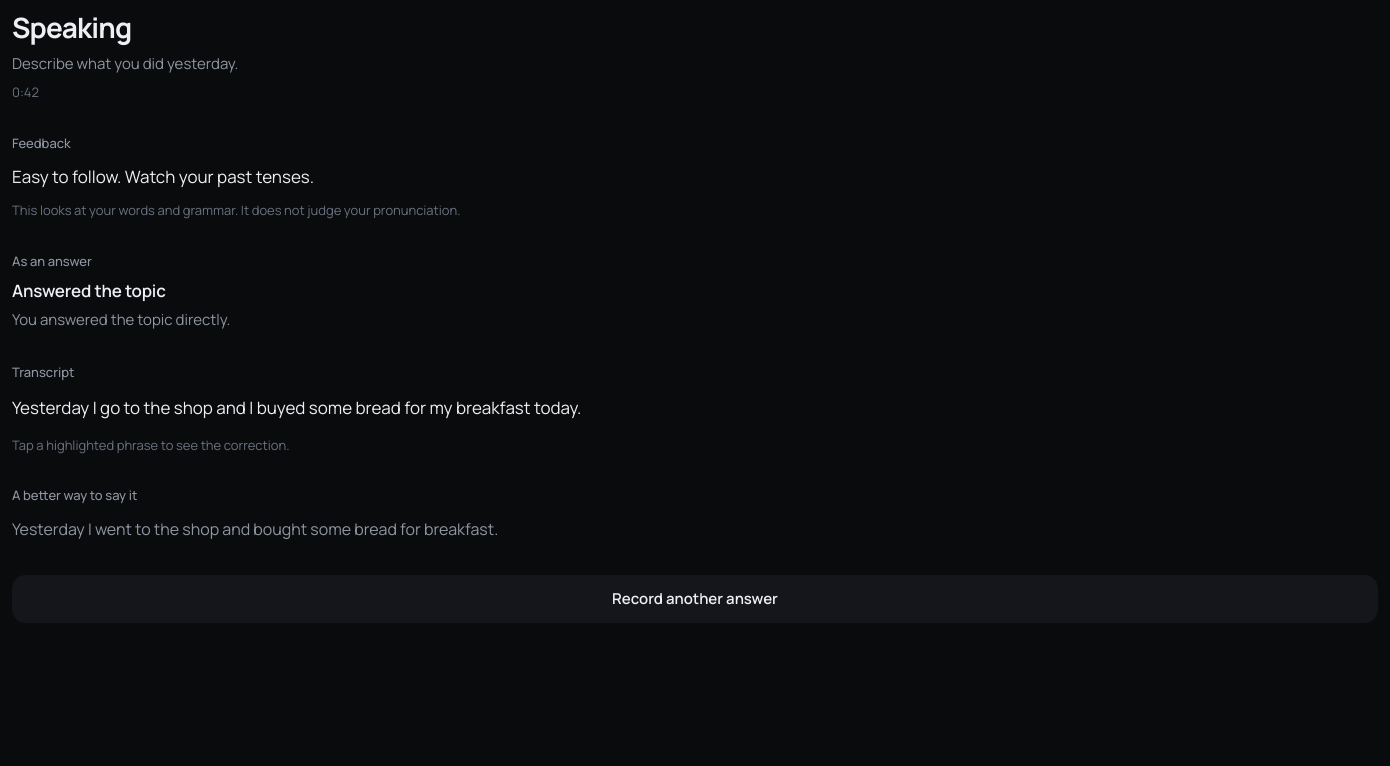
Test: tapping a marked phrase › shows that phrase's correction straight away
This screenshot has width=1390, height=766.
Step 1. Click the button "buyed" → click(281, 407), box [257,396,305,419]
(page scrolled)
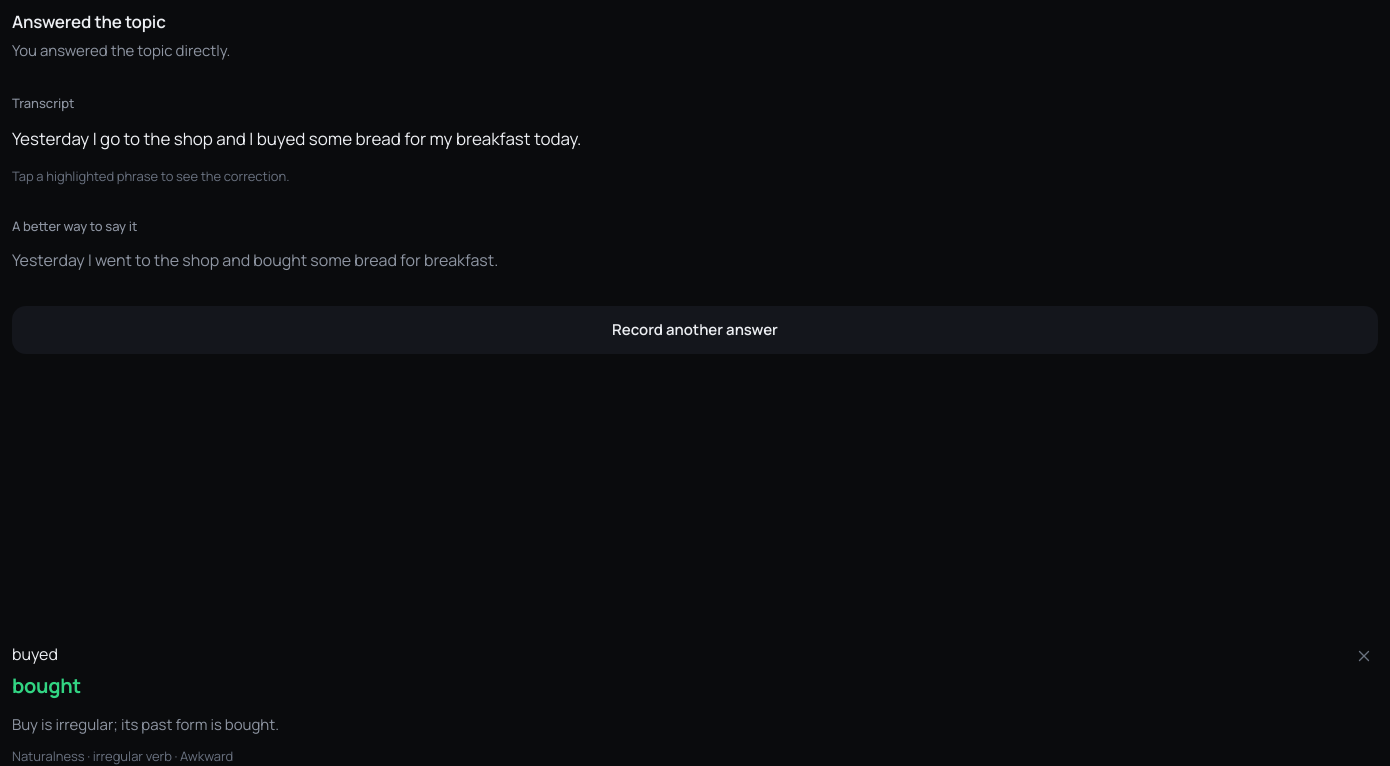
expect the text "buyed" is shown: met, box [12,643,58,665]
expect the text "bought" is shown: met, box [12,672,81,699]
expect the text "Buy is irregular; its past form is bought." is shown: met, box [12,714,279,735]
